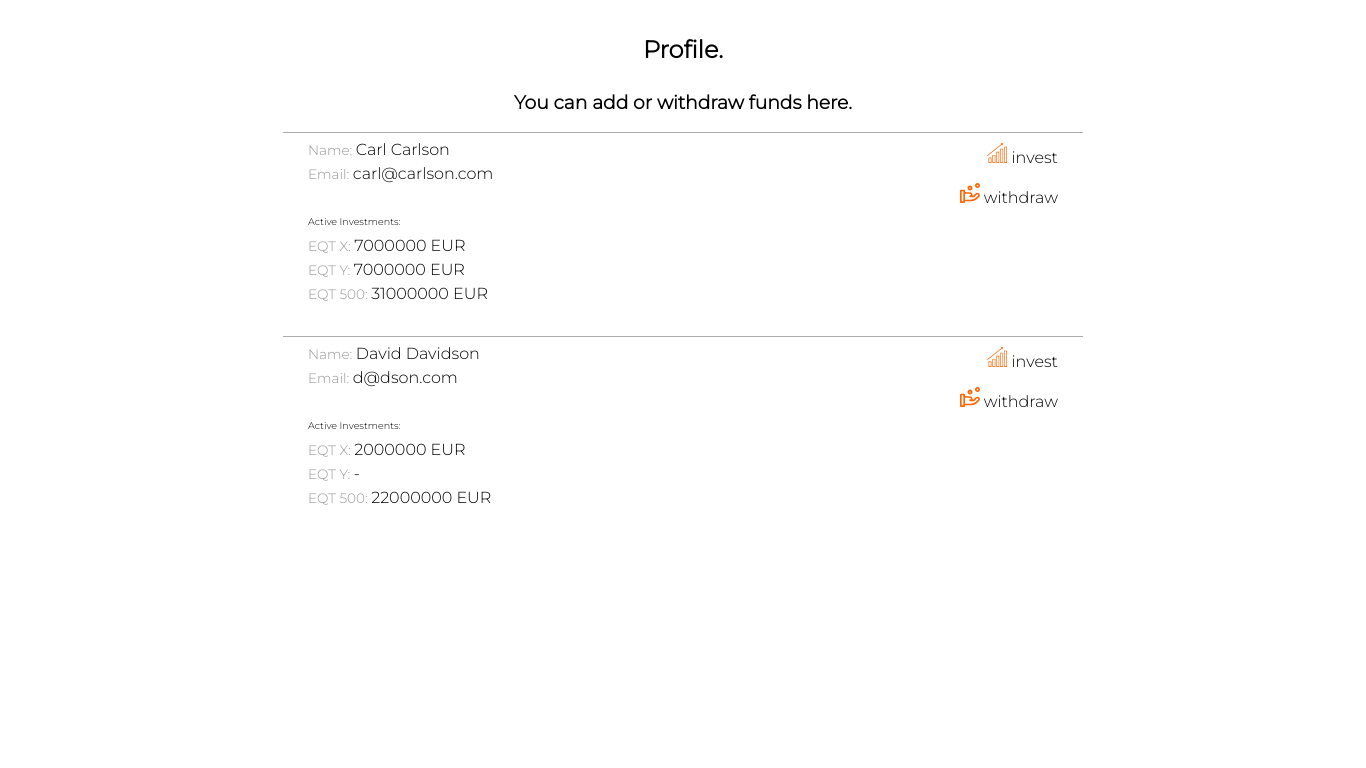
Test case: Profile invest popup works correctly
Expected: the text "invest" in the row of "Carl Carlson" is shown, [1007,148,1058,167]
Click the text "invest" in the row of "Carl Carlson" at (1023,153), box [987,143,1058,163]
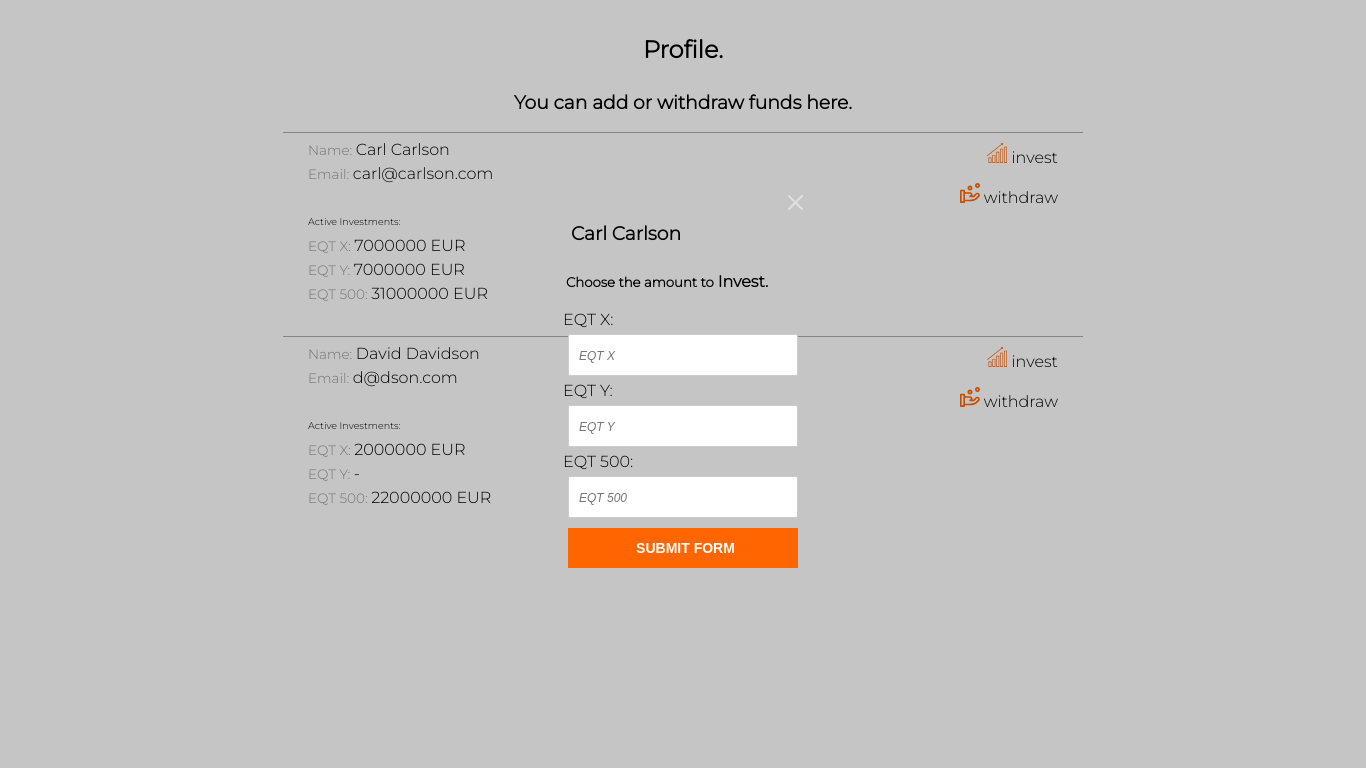
Expected: the heading "Carl Carlson" is shown, [571,222,681,245]
Expected: the button "SUBMIT FORM" is shown, [568,528,798,568]
